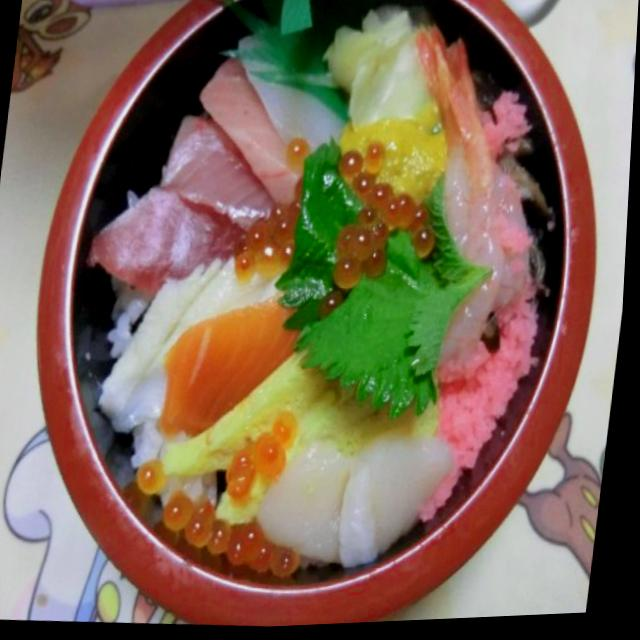刺身生食: (17, 0, 611, 638)
